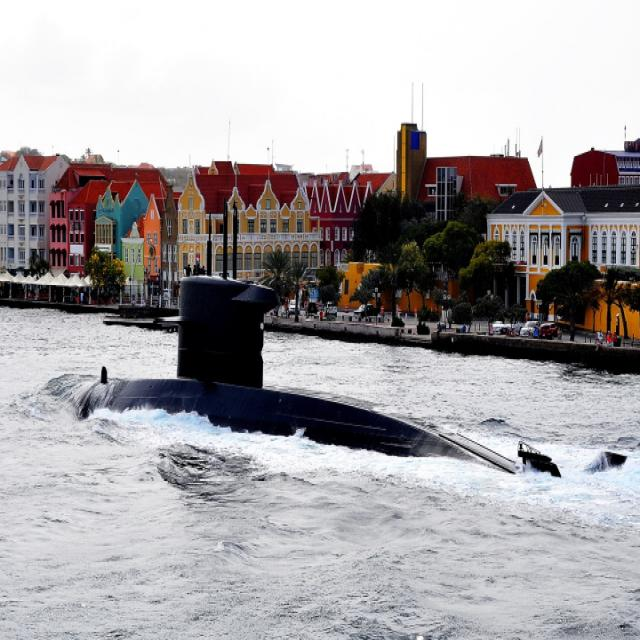submarine: (71, 148, 629, 484)
